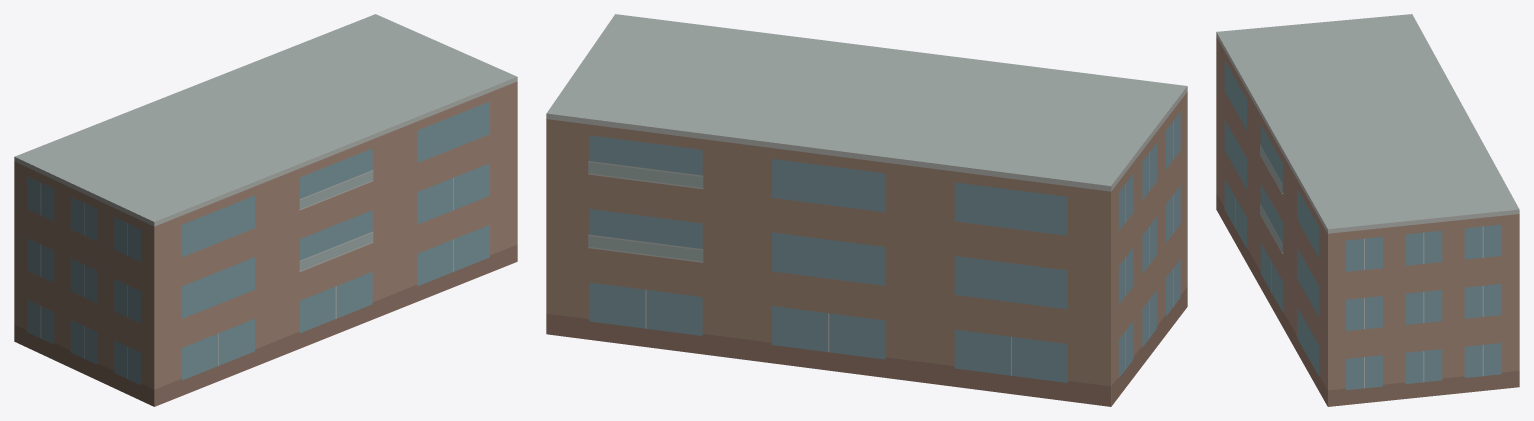
The model's file is survey-upis-32495429.glb.
The picture shows the model from 3 angles, left to right: view 1: azimuth 30°, elevation 25°; view 2: azimuth 150°, elevation 25°; view 3: azimuth 270°, elevation 25°; orthographic projection. The views are drawn at different scales.
Parts seen in each view (by area): view 1: survey-upis-32495429.tmp; view 2: survey-upis-32495429.tmp; view 3: survey-upis-32495429.tmp.
Part boxes in pixels (x1,y1,x2,y2): survey-upis-32495429.tmp: (14,14,517,406); survey-upis-32495429.tmp: (546,14,1187,406); survey-upis-32495429.tmp: (1216,14,1519,406).
Bounding box in the file's own units: 25.49 × 9.8 × 15.18.
